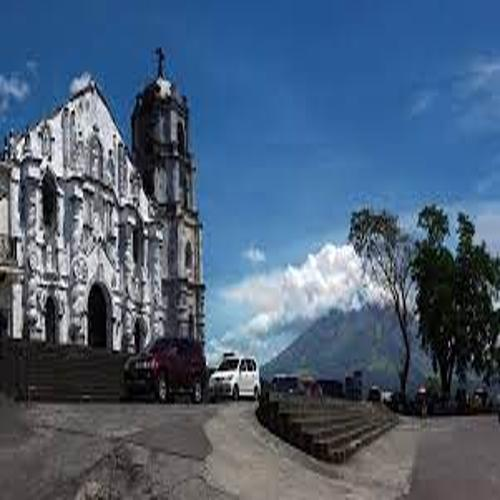Daraga Church: (2, 44, 210, 370)
